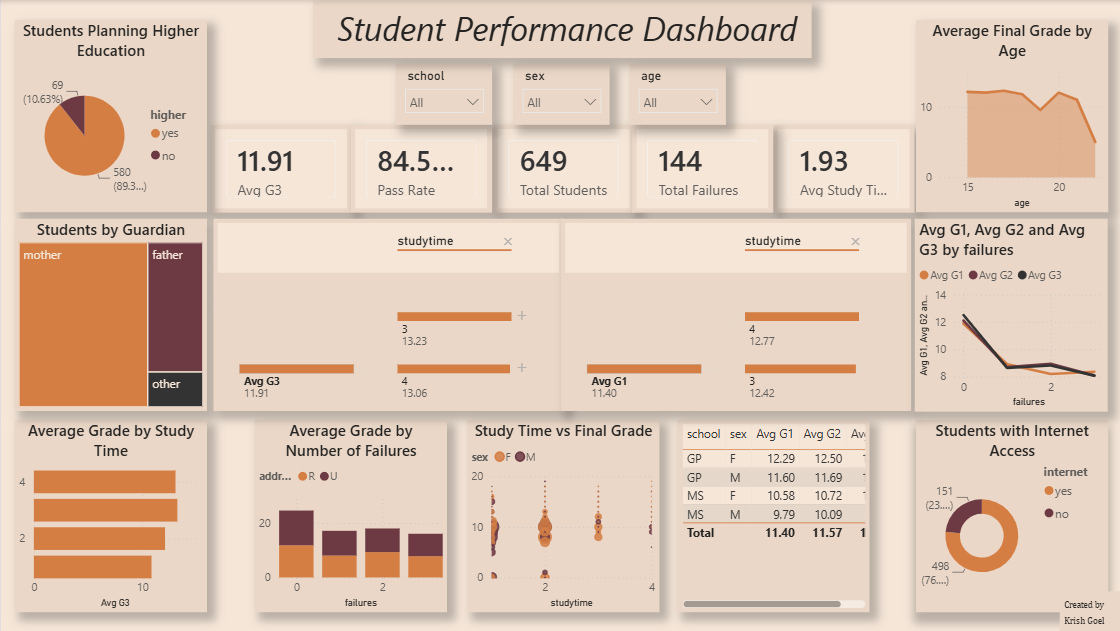

The dashboard page shown, as its layout file describes it:
{"tool":"powerbi","page":{"name":"Page 1","canvas":[1280,720],"ordinal":0},"visuals":[{"type":"cardVisual","fields":{"Data":["student-por.Total Students"]},"box":[561.2,142.7,160.5,100.2],"z":0},{"type":"cardVisual","fields":{"Data":["student-por.Avg G3"]},"box":[238.8,142.7,160.5,100.2],"z":1000},{"type":"cardVisual","fields":{"Data":["student-por.Avg Study Time"]},"box":[881,142.7,160.5,100.2],"z":2000},{"type":"cardVisual","fields":{"Data":["student-por.Total Failures"]},"box":[720.4,142.7,160.5,100.2],"z":3000},{"type":"areaChart","title":"Average Final Grade by Age","fields":{"Y":["student-por.Avg G3"],"Category":["student-por.age"]},"box":[1042.9,23.3,219.6,219.6],"z":4000},{"type":"clusteredBarChart","title":"Average Grade by Study Time","fields":{"Category":["student-por.studytime"],"Y":["student-por.Avg G3"]},"box":[15.1,478.9,219.6,219.6],"z":5000},{"type":"columnChart","title":"Average Grade by Number of Failures","fields":{"Category":["student-por.failures"],"Y":["student-por.Avg G3"],"Series":["student-por.address"]},"box":[289.5,478.9,219.6,219.6],"z":6000},{"type":"pieChart","title":"Students Planning Higher Education","fields":{"Category":["student-por.higher"],"Y":["student-por.Total Students"]},"box":[15.7,22.8,219.5,219.5],"z":7000},{"type":"donutChart","title":"Students with Internet Access","fields":{"Category":["student-por.internet"],"Y":["student-por.Total Students"]},"box":[1041.5,478.9,219.6,219.6],"z":8000},{"type":"scatterChart","title":"Study Time vs Final Grade","fields":{"X":["student-por.studytime"],"Y":["student-por.G3"],"Size":["Sum(student-por.failures)"],"Series":["student-por.sex"]},"box":[531,478.9,219.6,219.6],"z":9000},{"type":"treemap","title":"Students by Guardian","fields":{"Group":["student-por.guardian"],"Values":["student-por.Total Students"]},"box":[15.1,249.7,219.6,219.6],"z":10000},{"type":"tableEx","fields":{"Values":["student-por.school","student-por.sex","student-por.Avg G1","student-por.Avg G2","student-por.Avg G3"]},"box":[771.2,478.9,219.6,219.6],"z":11000},{"type":"cardVisual","fields":{"Data":["student-por.Pass Rate"]},"box":[399.3,142.7,160.5,100.2],"z":12000},{"type":"slicer","fields":{"Values":["student-por.sex"]},"box":[585,72.7,109.8,70],"z":13000},{"type":"slicer","fields":{"Values":["student-por.school"]},"box":[450.1,72.7,109.8,70],"z":14000},{"type":"slicer","fields":{"Values":["student-por.age"]},"box":[716.3,72.7,109.8,70],"z":15000},{"type":"textbox","box":[356,1.4,568.1,64.5],"z":16000},{"type":"decompositionTreeVisual","fields":{"Analyze":["student-por.Avg G3"],"ExplainBy":["student-por.studytime","student-por.failures","student-por.Fedu","student-por.internet","student-por.higher"]},"box":[242.9,249.7,399.3,219.6],"z":17000},{"type":"decompositionTreeVisual","fields":{"Analyze":["student-por.Avg G1"],"ExplainBy":["student-por.studytime"]},"box":[638.1,249.7,399.3,219.6],"z":18000},{"type":"lineChart","fields":{"Y":["student-por.Avg G1","student-por.Avg G2","student-por.Avg G3"],"Category":["student-por.failures"]},"box":[1042,250,220,220],"z":19000},{"type":"textbox","box":[1207.3,674.2,72.7,45.6],"z":19001}]}

Visuals, with their boxes in screenshot pixels (x1, y1, x2, y2), scaled from the page's 1280x720 canvas onto the 1120x631 screenshot:
cardVisual - student-por.Total Students: [491, 125, 631, 213]
cardVisual - student-por.Avg G3: [209, 125, 349, 213]
cardVisual - student-por.Avg Study Time: [771, 125, 911, 213]
cardVisual - student-por.Total Failures: [630, 125, 771, 213]
"Average Final Grade by Age" areaChart: [913, 20, 1105, 213]
"Average Grade by Study Time" clusteredBarChart: [13, 420, 205, 612]
"Average Grade by Number of Failures" columnChart: [253, 420, 445, 612]
"Students Planning Higher Education" pieChart: [14, 20, 206, 212]
"Students with Internet Access" donutChart: [911, 420, 1103, 612]
"Study Time vs Final Grade" scatterChart: [465, 420, 657, 612]
"Students by Guardian" treemap: [13, 219, 205, 411]
tableEx - student-por.school x student-por.sex: [675, 420, 867, 612]
cardVisual - student-por.Pass Rate: [349, 125, 490, 213]
slicer - student-por.sex: [512, 64, 608, 125]
slicer - student-por.school: [394, 64, 490, 125]
slicer - student-por.age: [627, 64, 723, 125]
textbox: [312, 1, 809, 58]
decompositionTreeVisual - student-por.Avg G3 x student-por.studytime: [213, 219, 562, 411]
decompositionTreeVisual - student-por.Avg G1 x student-por.studytime: [558, 219, 908, 411]
lineChart - student-por.Avg G1 x student-por.Avg G2: [912, 219, 1104, 412]
textbox: [1056, 591, 1119, 630]
